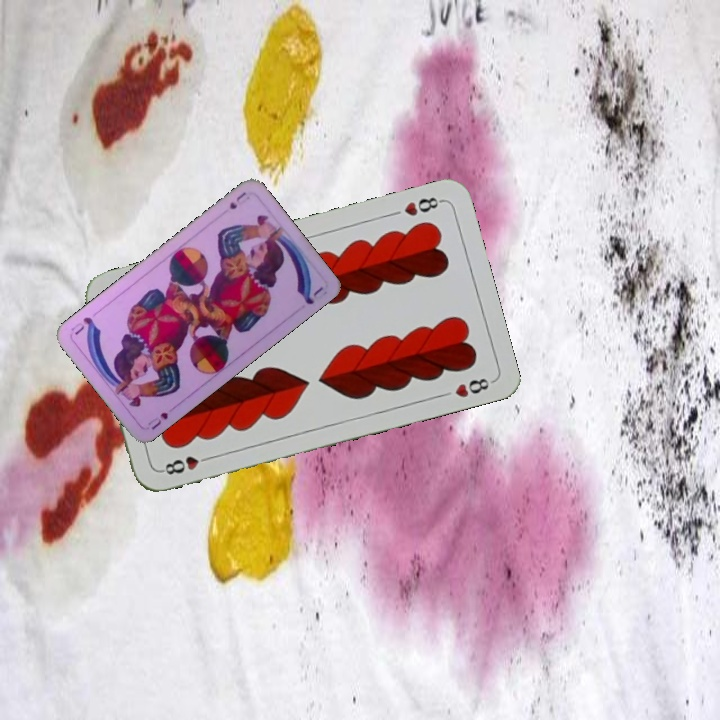H8: (157, 451, 215, 478), (400, 193, 445, 219)
SU: (143, 408, 171, 432), (225, 188, 250, 212)
